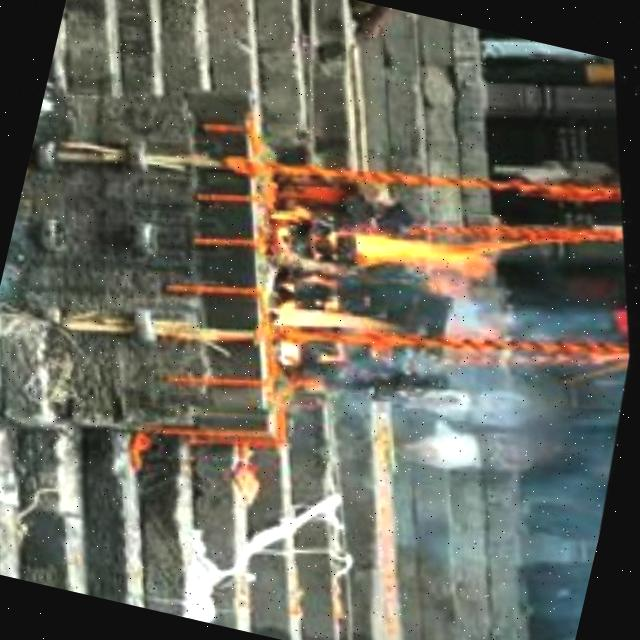fire: (225, 162, 563, 435)
